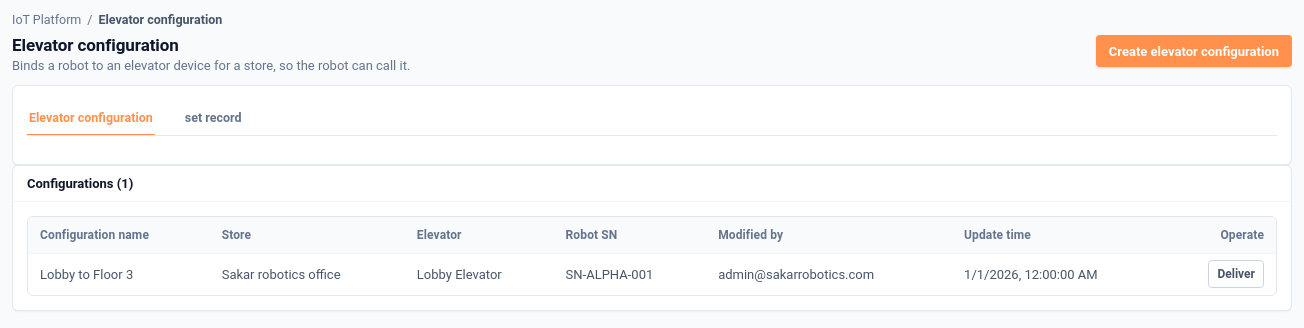
Test case: ElevatorConfigurationPage › shows the set record tab with the real change history
The width and height of the screenshot is (1304, 328).
Expected: the text "Lobby to Floor 3" is shown, [28,253,210,295]
Click the tab "set record": (213, 118) [183,100,244,136]
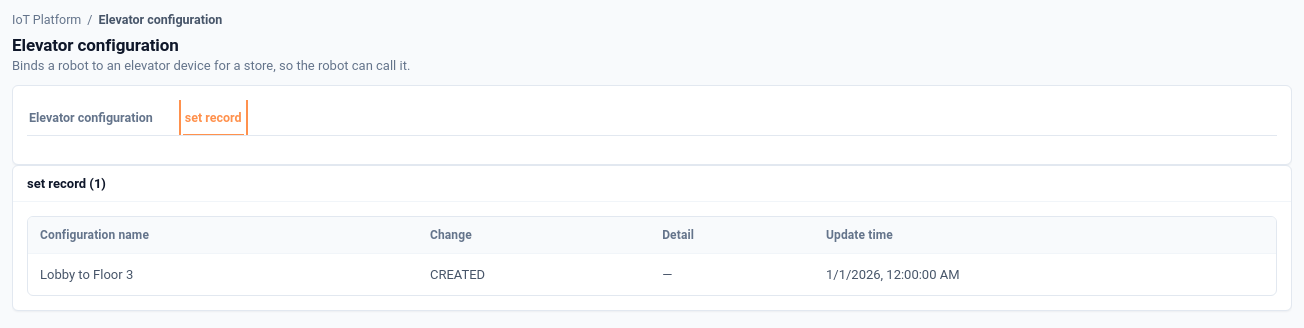
Now the text "CREATED" is shown, box [418,253,650,295]
